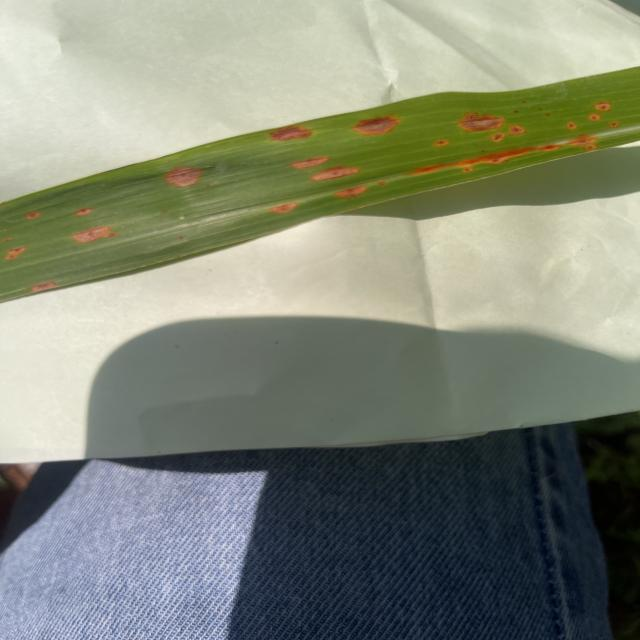millet_rust: (0, 70, 640, 309)
